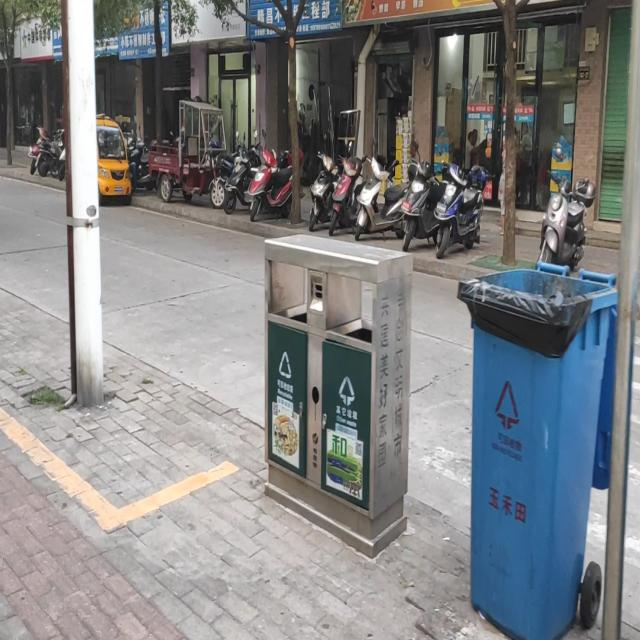ash bin: (460, 269, 620, 636), (260, 235, 414, 561)
car: (97, 113, 132, 205)
motorbike: (535, 144, 596, 272), (355, 136, 410, 240), (248, 127, 304, 220), (435, 155, 485, 255), (402, 140, 442, 251), (308, 129, 341, 228), (328, 141, 363, 231), (222, 131, 258, 210)
pole: (602, 4, 638, 640), (61, 0, 108, 407)
tricycle: (148, 98, 228, 206)
